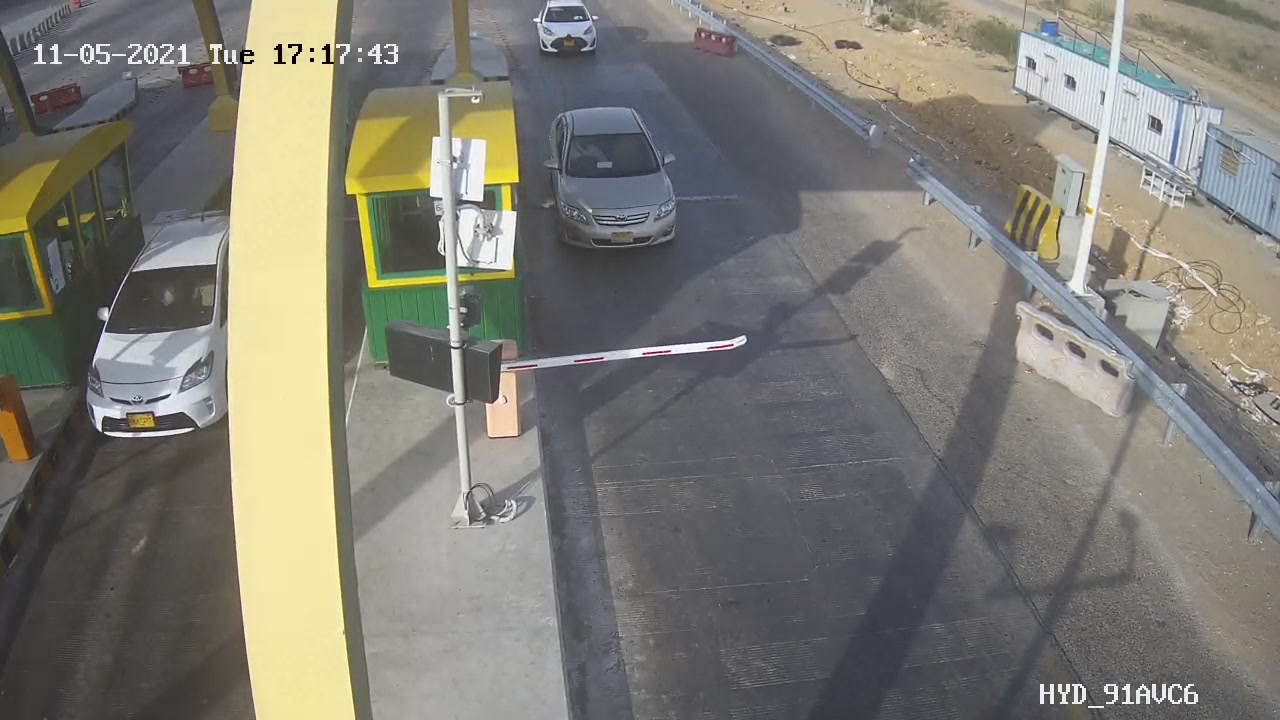F1: (529, 92, 699, 266)
